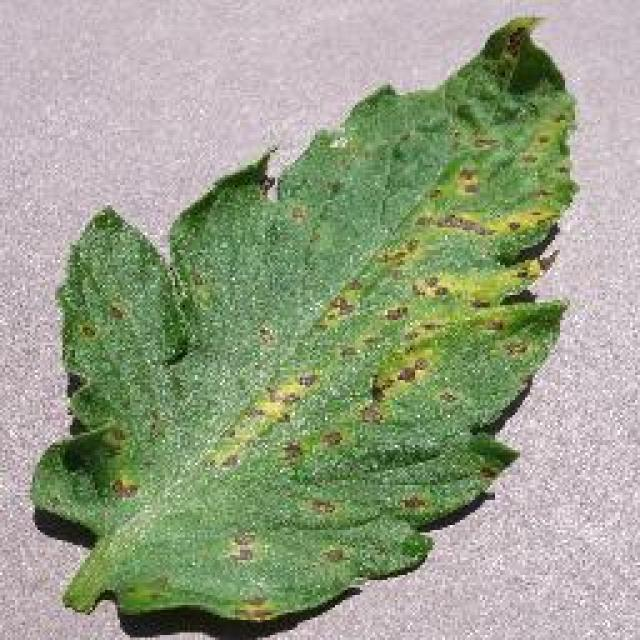Tomato___Septoria_leaf_spot: (32, 18, 572, 620)
